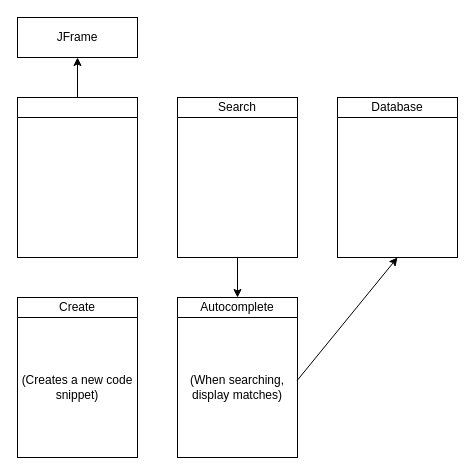
Some shapes in this 475 by 475 pixel diagram are drawn without their labels. The box of each missing label's shape, as (x1, y1, x2, y2) in pixels:
(Contains our code snippets, their associated keywords, and verion history): (336, 116, 458, 258)
(Searches for an existing code snippet): (176, 116, 298, 258)
Program GUI: (16, 96, 138, 118)
